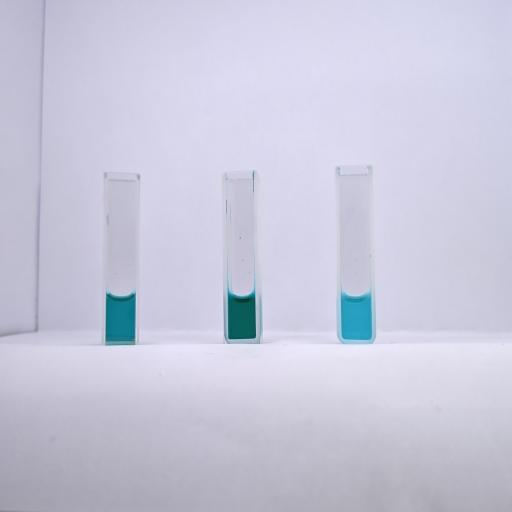cuvette: (333, 164, 377, 344), (100, 169, 142, 346), (221, 170, 261, 344)
liquid: (342, 294, 372, 340), (106, 293, 135, 340), (228, 292, 256, 339)
